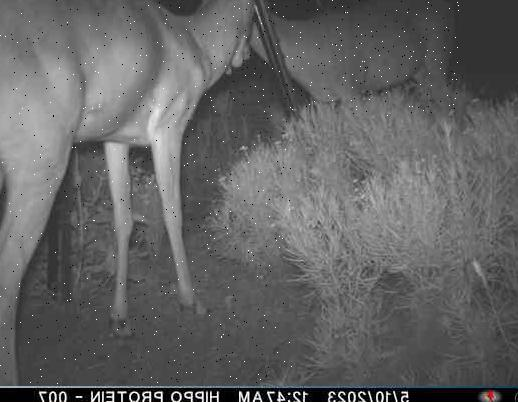Deer: (0, 0, 293, 385), (246, 0, 461, 116)
